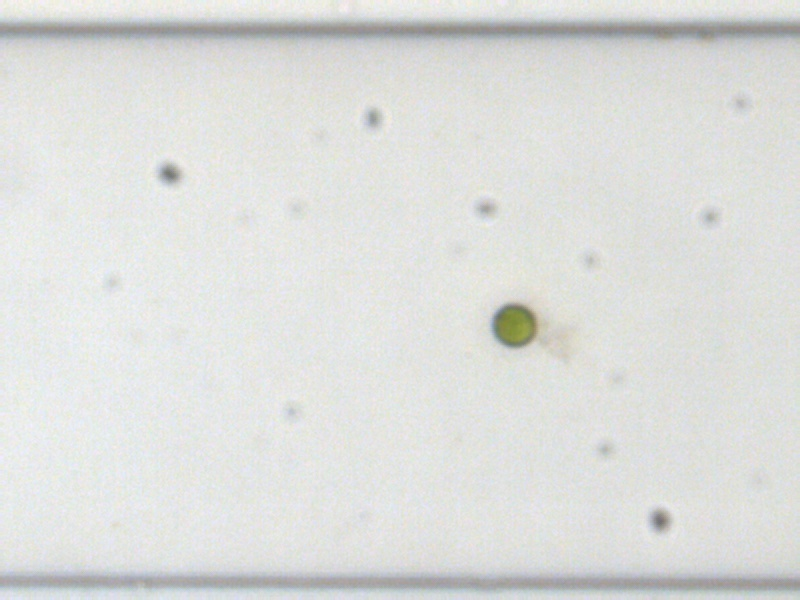Platymonas: (488, 302, 536, 349)
